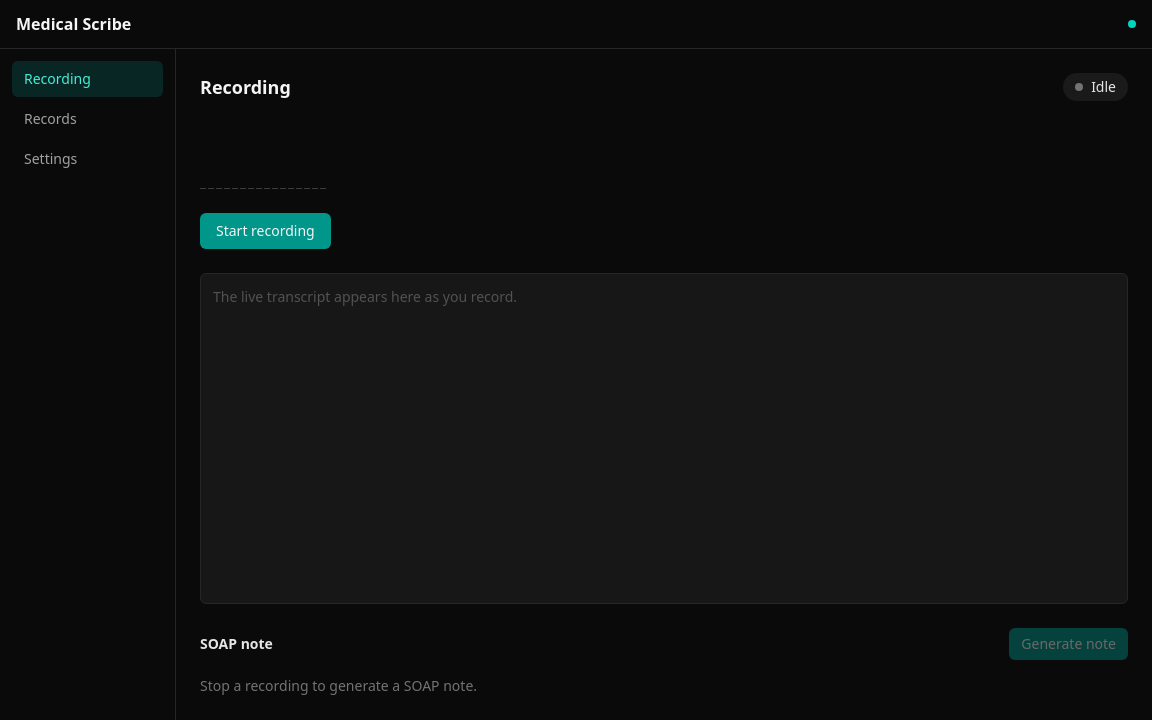
App shell › switches view when a nav item is clicked
The image size is (1152, 720).
Click the button "Settings" at point(88, 159), box [12,141,163,177]
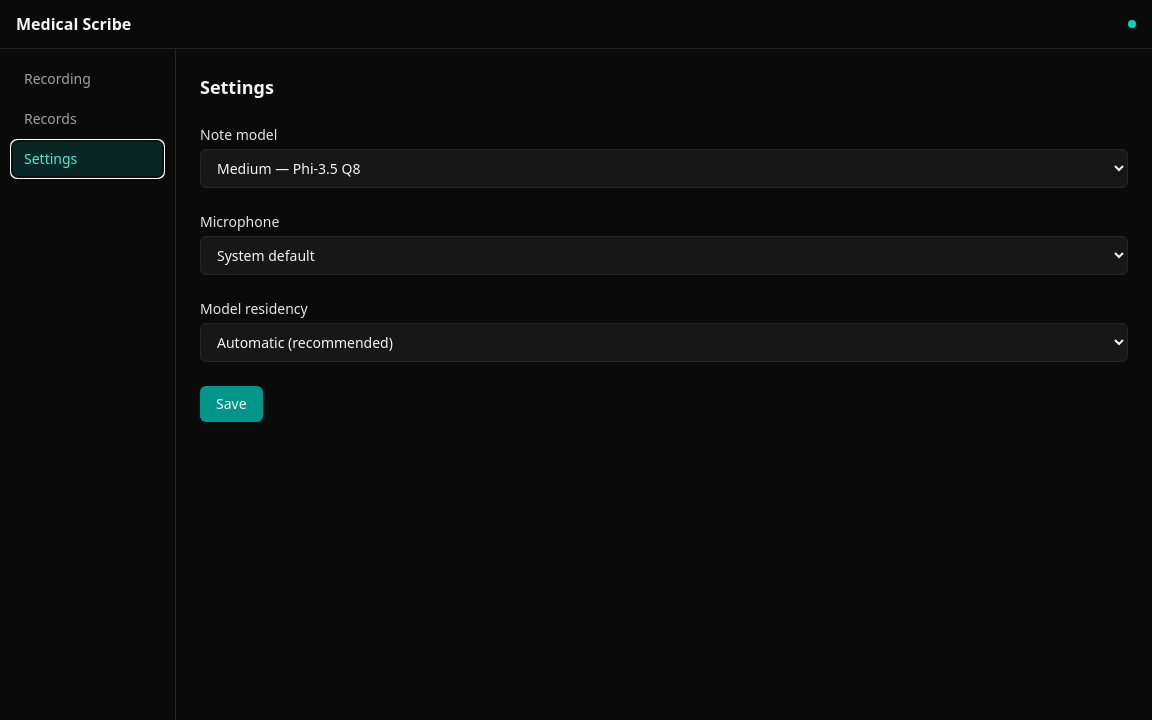
Result: the element "Settings" is shown at [200,75,1128,422]
